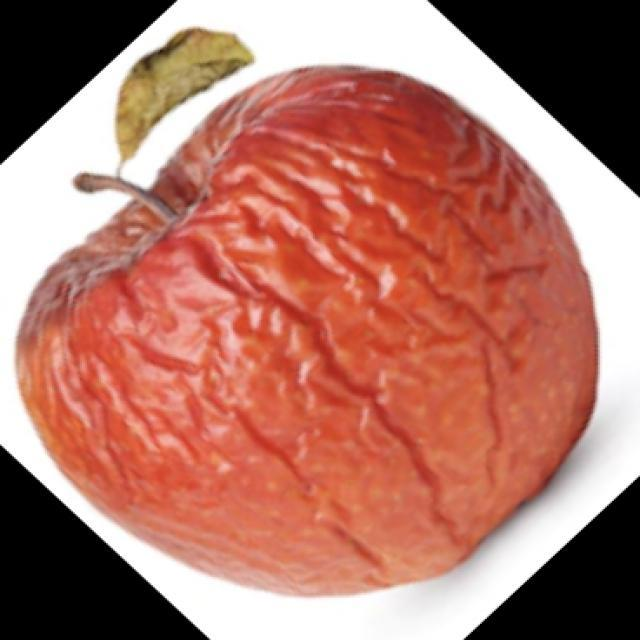Rotten: (0, 76, 611, 579)
